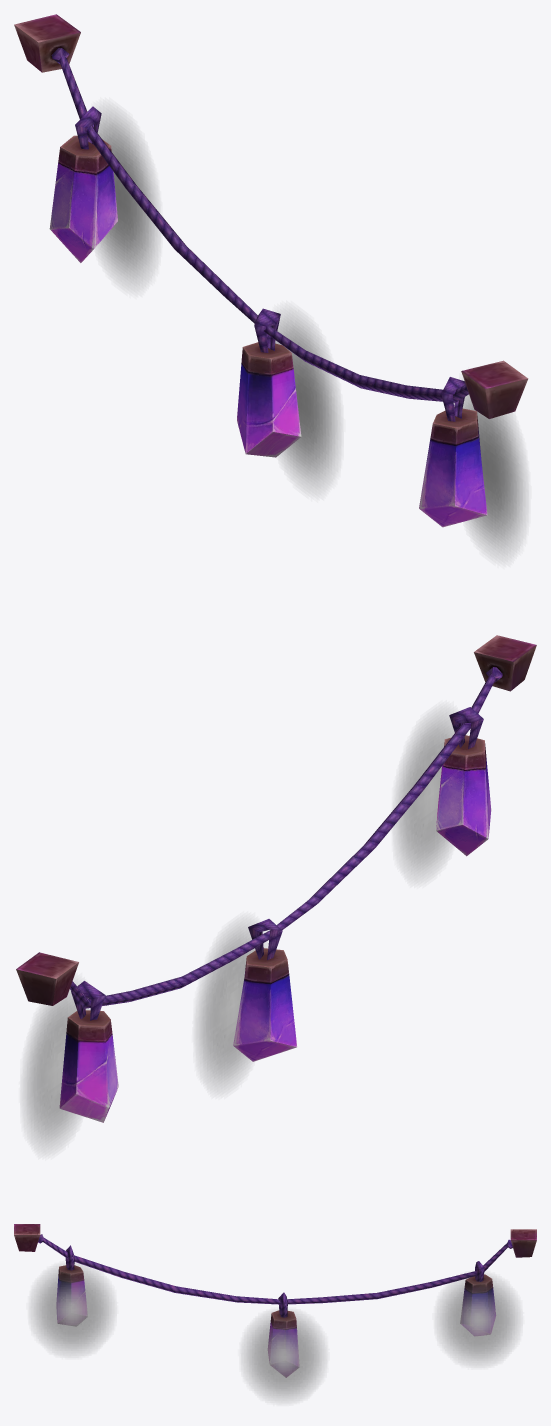
3 views of the same model, one above another, from view 1: azimuth 30°, elevation 25°; view 2: azimuth 150°, elevation 25°; view 3: azimuth 270°, elevation 25° (orthographic). The views are drawn at different scales.
Bounding box in the file's own units: 1.12 × 4.32 × 12.08.
Materials: 2 (2 with a texture image).
